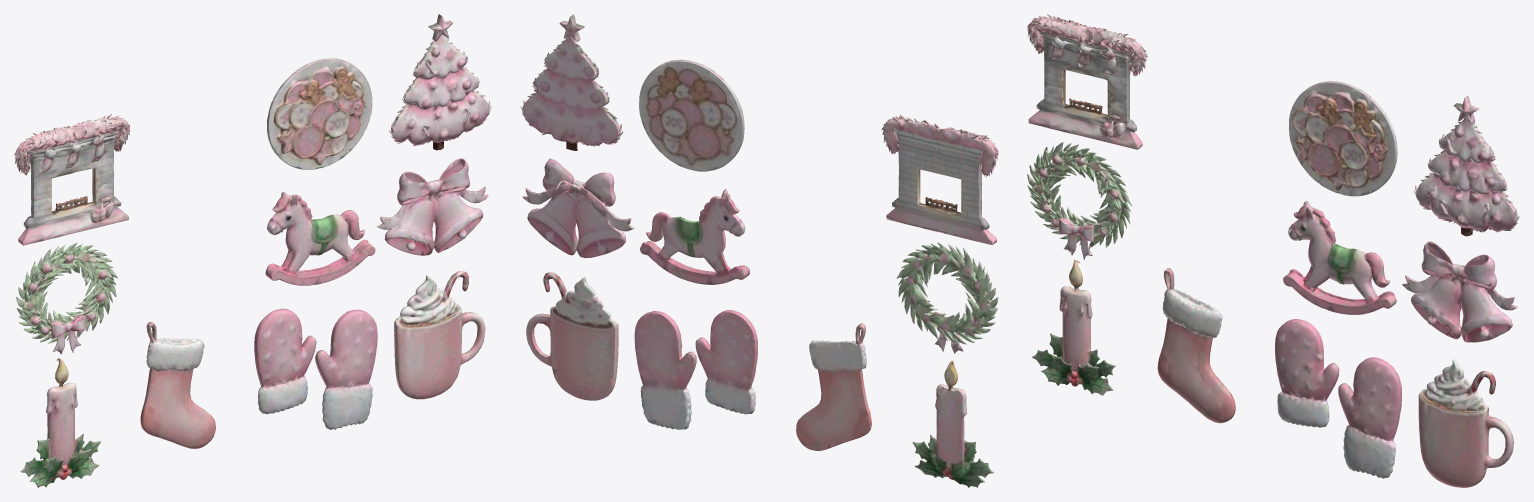
3 views of the same model, side by side, from view 1: azimuth 30°, elevation 25°; view 2: azimuth 150°, elevation 25°; view 3: azimuth 330°, elevation 25° (orthographic). The views are drawn at different scales.
Visible parts, largest first — view 1: Mesh 1, Mesh 11, Mesh 16, Mesh 15, Mesh 14, Mesh 2, Mesh 6, Mesh 10, Mesh 13, Mesh 9, Mesh 3; view 2: Mesh 1, Mesh 11, Mesh 16, Mesh 15, Mesh 14, Mesh 6, Mesh 2, Mesh 10, Mesh 13, Mesh 9, Mesh 3; view 3: Mesh 1, Mesh 11, Mesh 16, Mesh 15, Mesh 14, Mesh 6, Mesh 2, Mesh 10, Mesh 13, Mesh 9, Mesh 3.
Part boxes in pixels (x1,y1,x2,y2): Mesh 1: (14,114,129,245); Mesh 11: (267,58,372,169); Mesh 16: (394,271,485,399); Mesh 15: (389,14,491,150); Mesh 14: (377,158,488,255); Mesh 2: (16,242,117,354); Mesh 6: (140,322,215,448); Mesh 10: (265,192,375,285); Mesh 13: (315,309,377,429); Mesh 9: (254,308,316,414); Mesh 3: (20,358,101,487); Mesh 1: (881,115,998,244); Mesh 11: (639,59,744,171); Mesh 16: (526,272,618,400); Mesh 15: (520,14,623,150); Mesh 14: (523,158,634,258); Mesh 6: (796,323,871,450); Mesh 2: (896,242,998,353); Mesh 10: (640,189,749,284); Mesh 13: (634,311,696,429); Mesh 9: (695,310,757,414); Mesh 3: (912,360,993,487); Mesh 1: (1027,14,1147,149); Mesh 11: (1289,81,1397,196); Mesh 16: (1418,359,1513,487); Mesh 15: (1413,96,1519,236); Mesh 14: (1402,241,1517,342); Mesh 6: (1157,268,1235,423); Mesh 2: (1027,142,1131,259); Mesh 10: (1283,201,1396,314); Mesh 13: (1338,357,1401,478); Mesh 9: (1275,319,1339,427); Mesh 3: (1032,259,1115,395).
Size of the model in its own units: 1.83 by 1.42 by 0.0863.
11 materials, 11 textured.
